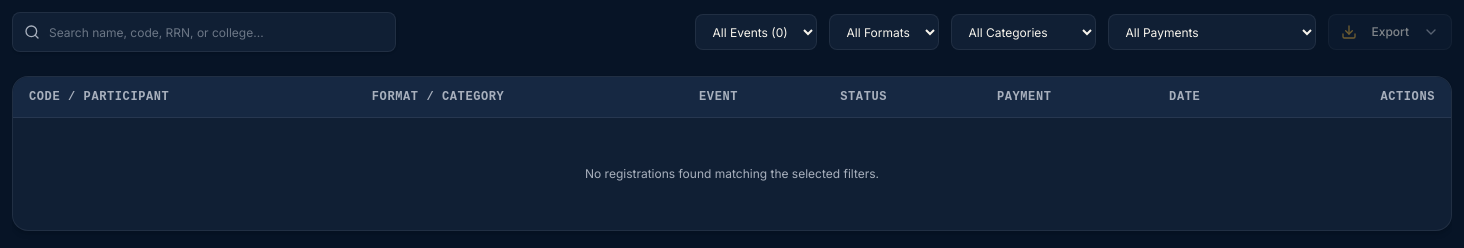
Registration List Table - Export Control Interactions › 2. enables the Export button when an event is selected, and opens dropdown on click
Select "Event One" in the dropdown named "Filter by Event" at point(756, 32), box [696, 14, 818, 50]
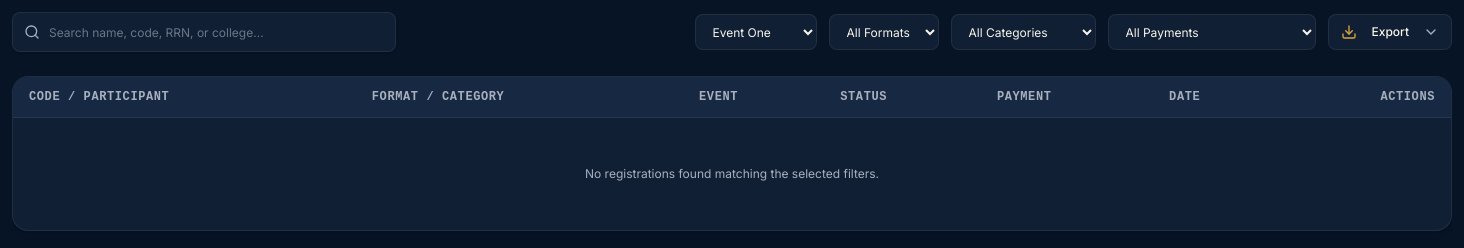
Expected: the button "Export" is enabled
Click the button "Export".
click(1390, 32)  # box [1328, 14, 1452, 50]
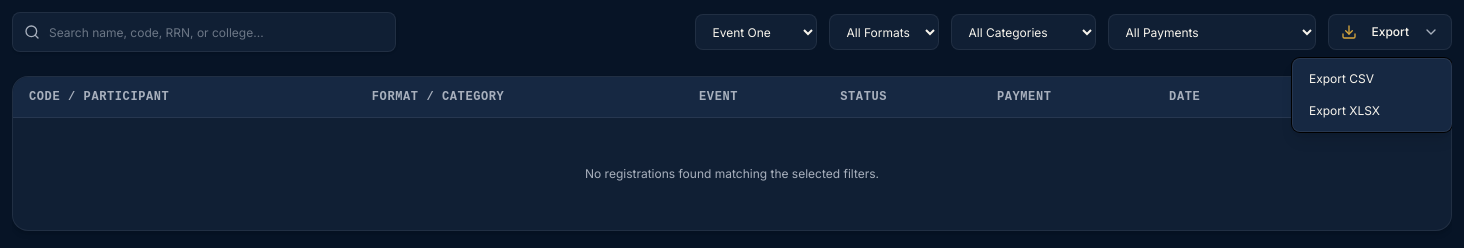
Expected: the number of menu items is 2, [1293, 63, 1451, 95]; [1293, 95, 1451, 127]
Expected: the menu item "Export CSV" is shown, [1293, 63, 1451, 95]
Expected: the menu item "Export XLSX" is shown, [1293, 95, 1451, 127]
